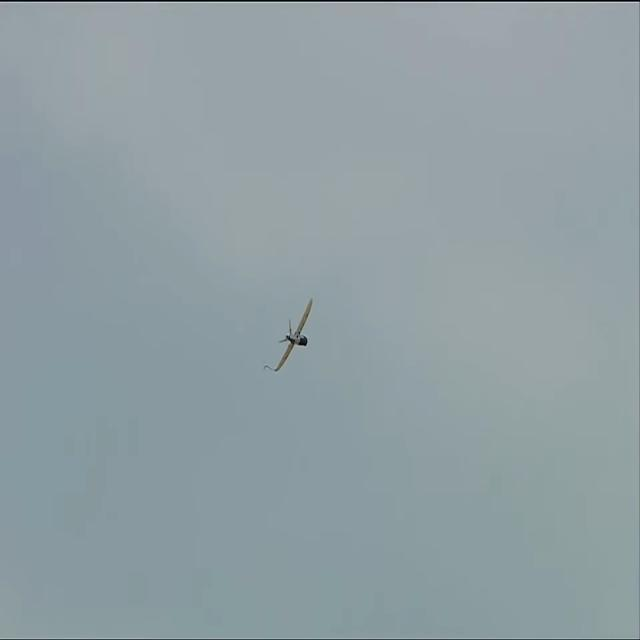iha: (274, 331, 315, 335)
